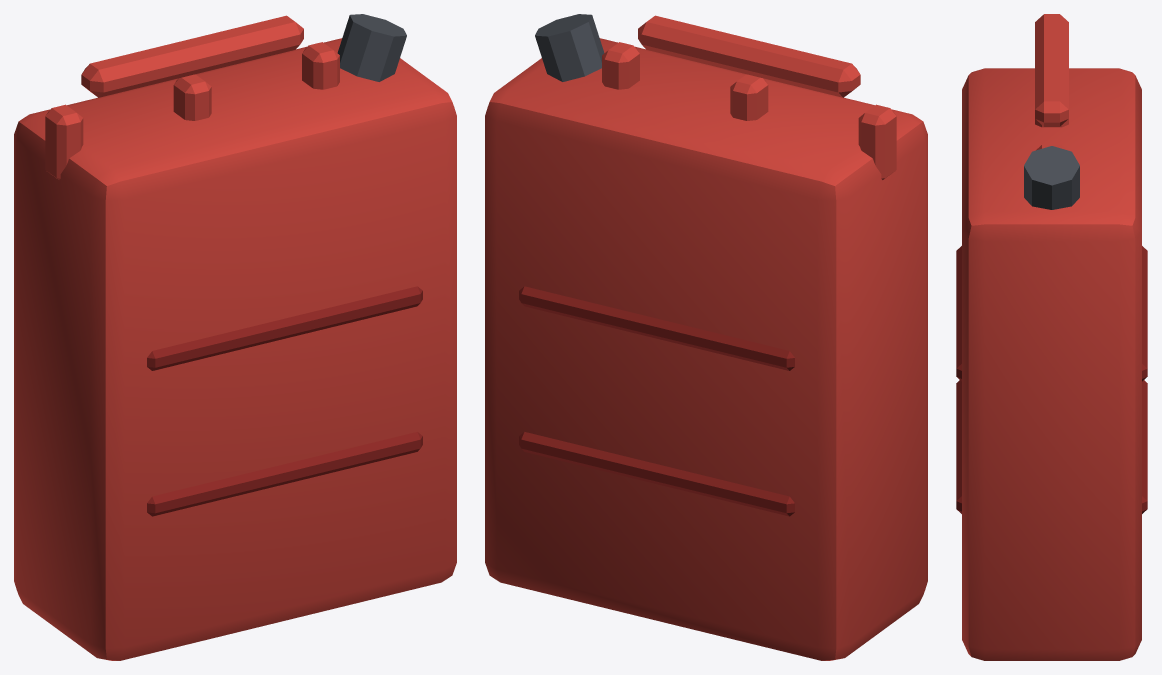
The model's file is SM_Jerrycan.glb.
The picture shows the model from 3 angles, left to right: view 1: azimuth 30°, elevation 25°; view 2: azimuth 150°, elevation 25°; view 3: azimuth 270°, elevation 25°; orthographic projection. The views are drawn at different scales.
Parts seen in each view (by area): view 1: SM_Jerrycan; view 2: SM_Jerrycan; view 3: SM_Jerrycan.
Boxes of the visible parts, x1,y1,x2,y2 form: SM_Jerrycan: (14, 14, 456, 660); SM_Jerrycan: (485, 14, 927, 660); SM_Jerrycan: (956, 14, 1147, 660).
Size of the model in its own units: 0.3425 by 0.5025 by 0.17.
Materials: 1 (1 with a texture image).
